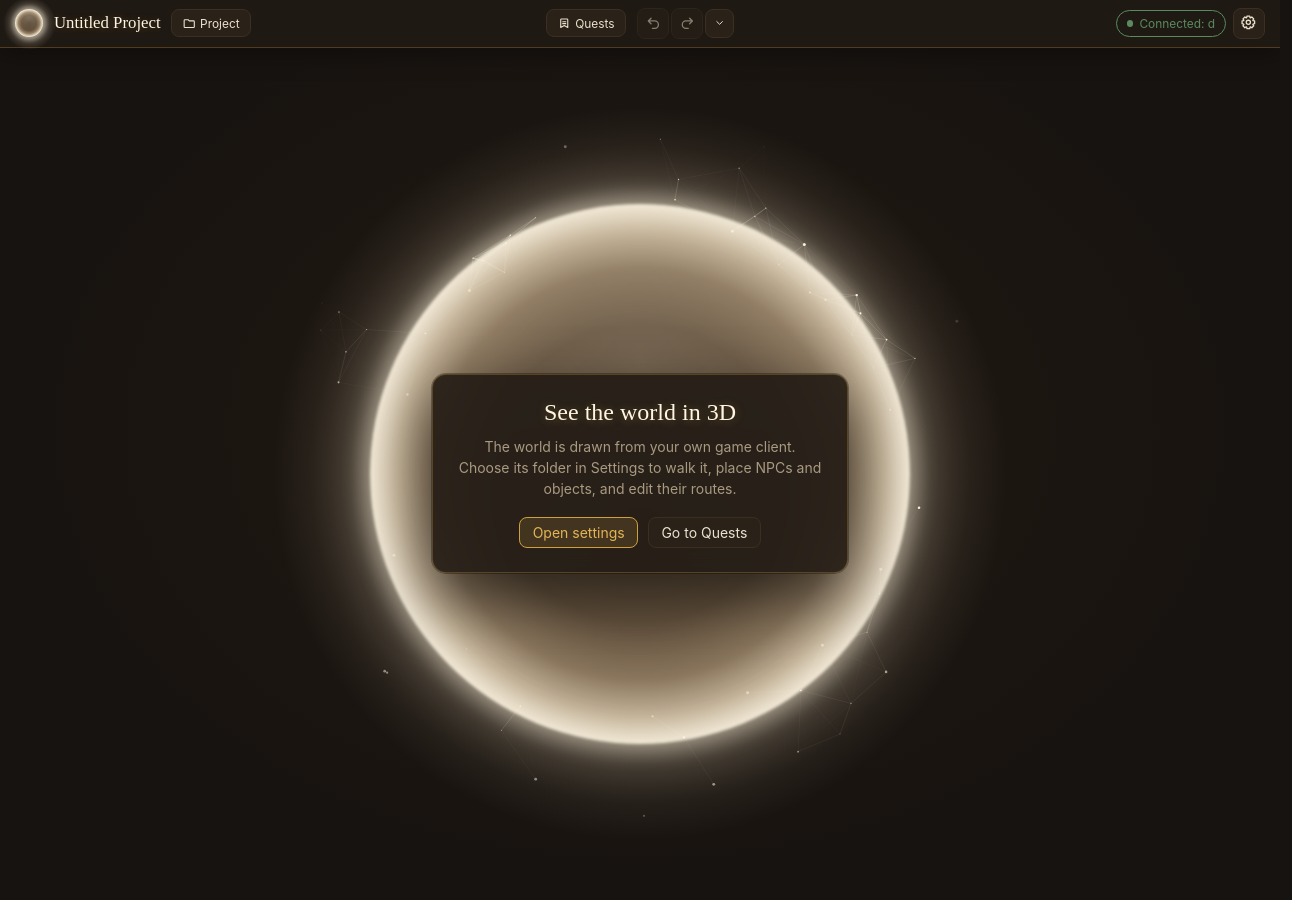
chain dock error reporting › reports a failed drag/viewport flush instead of dropping it
Click the button "Quests" at (586, 23), box [546,10,626,37]
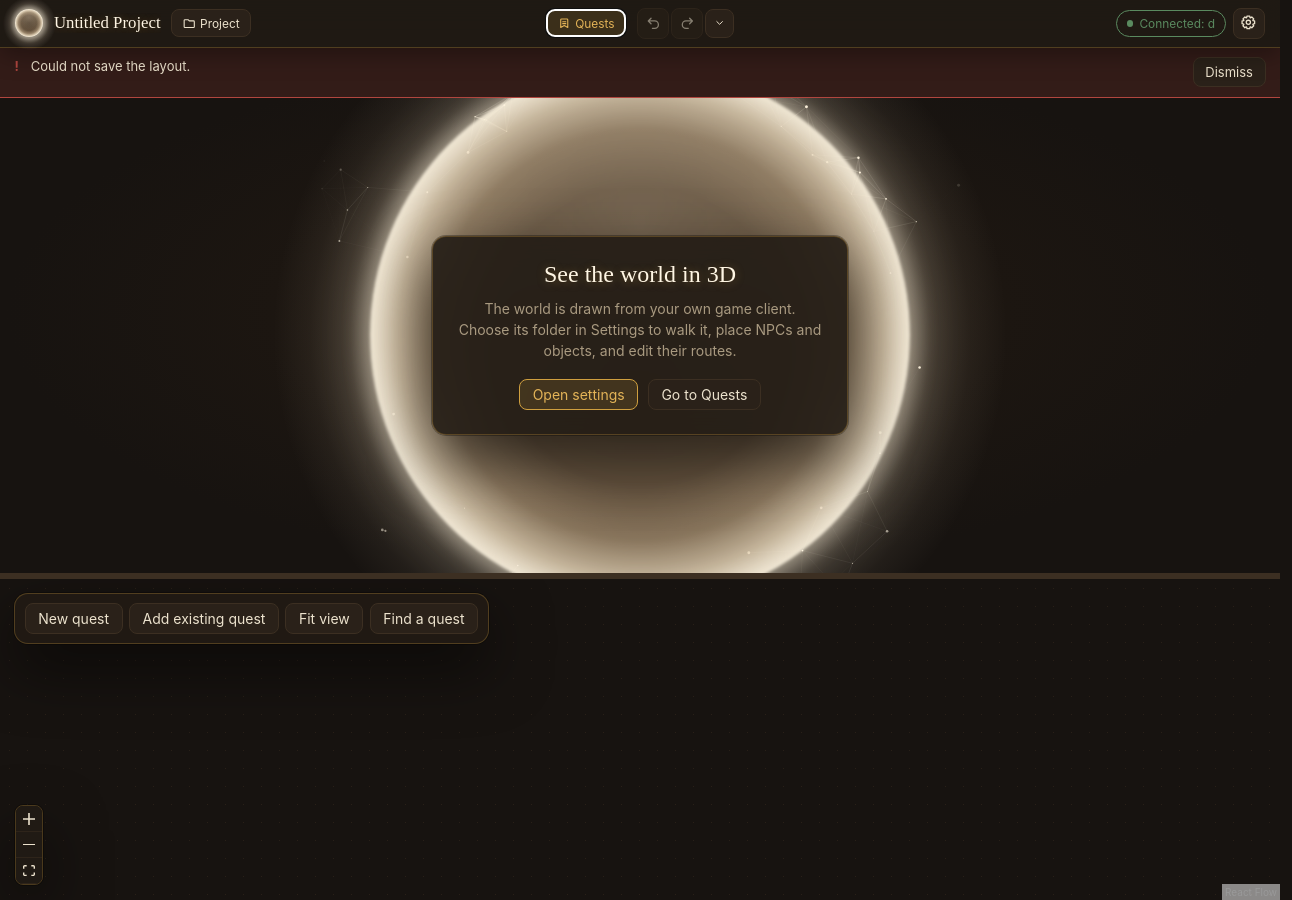
Now the message "! Could not save the layout. Dismiss" is shown, box [0,48,1280,98]
